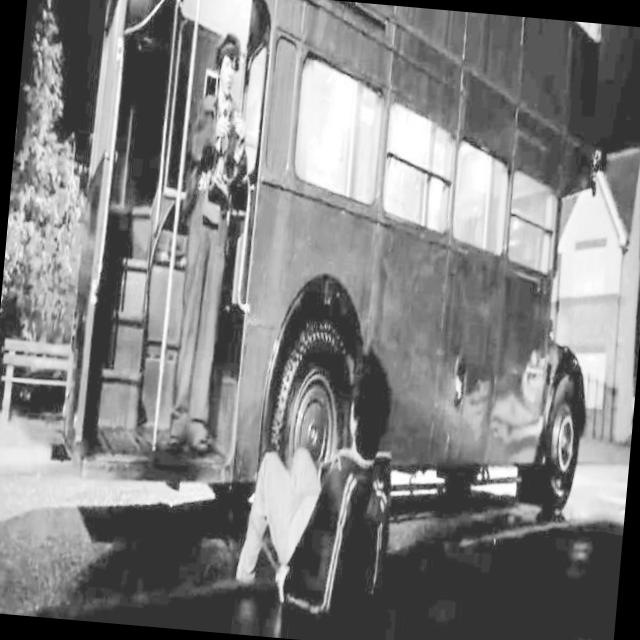Bus: (5, 0, 626, 571)
